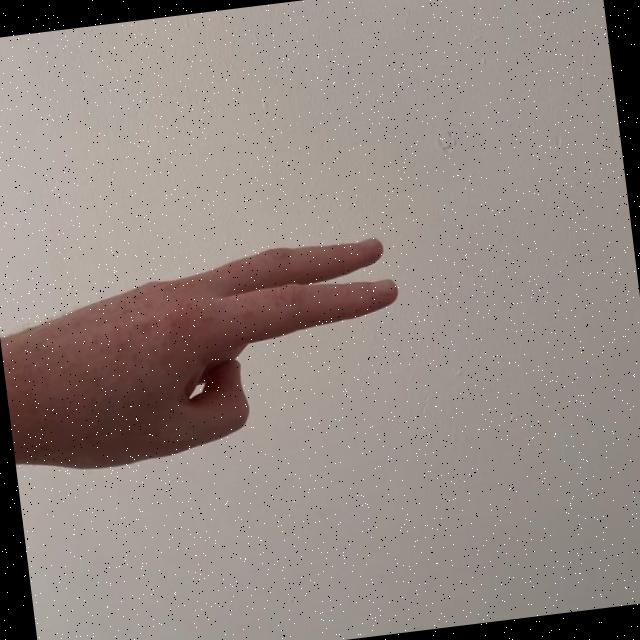scissors: (36, 230, 418, 473)
